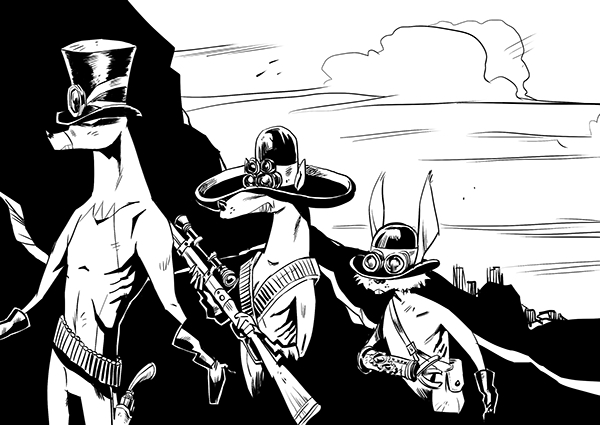cat: (361, 169, 520, 425)
dog: (1, 36, 229, 411), (196, 110, 353, 425)
